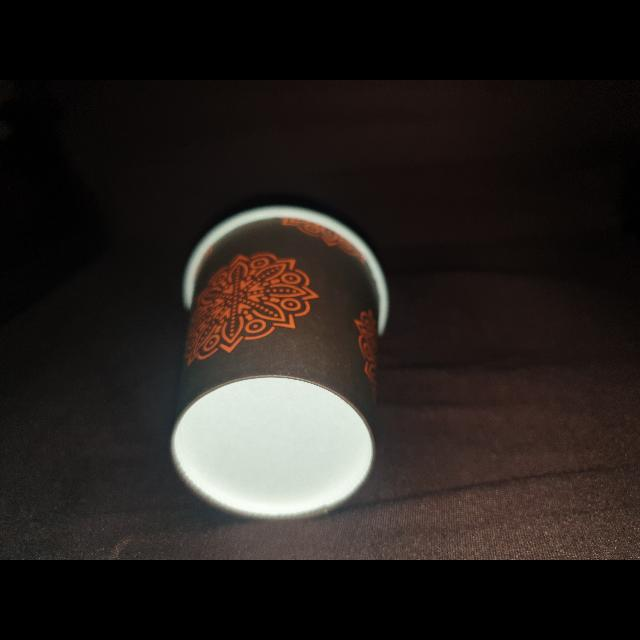trash: (158, 202, 392, 528)
